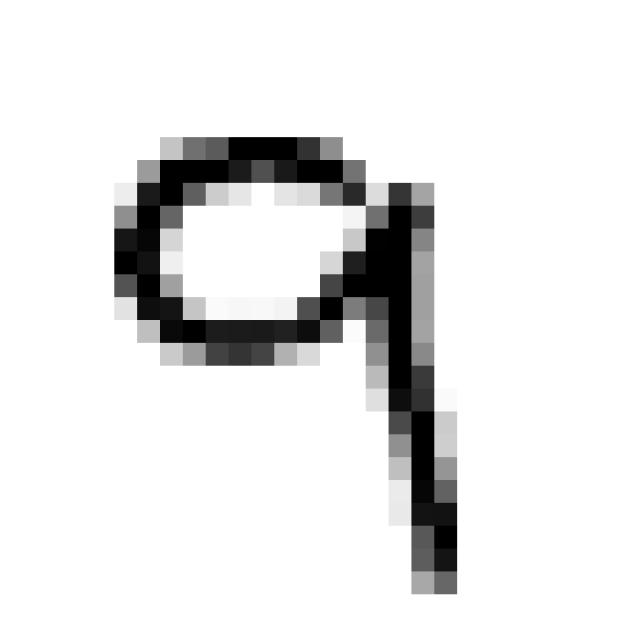9 -nine-: (100, 117, 476, 614)
